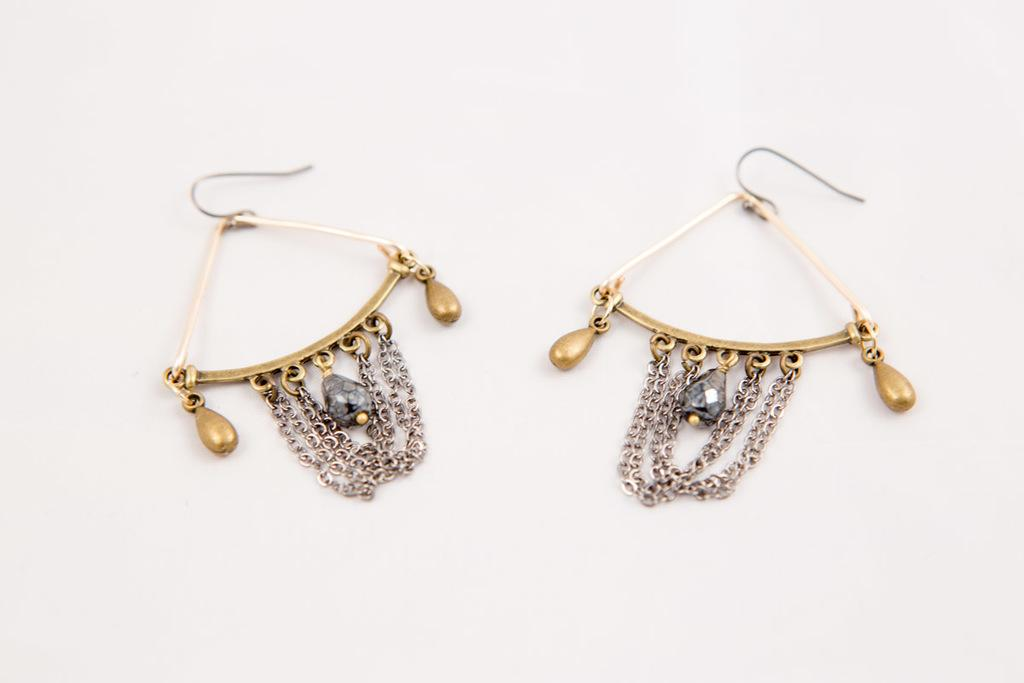earring: (542, 139, 918, 512), (162, 161, 457, 500)
